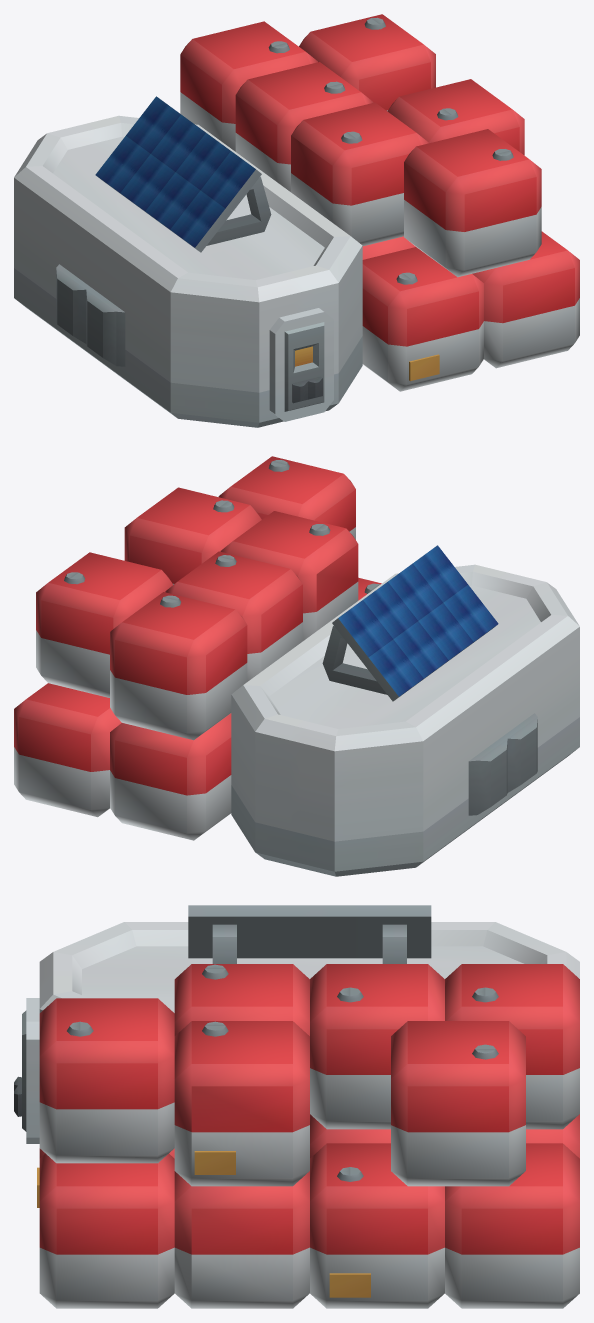
The model's file is kay-deposito-carga-c.gltf.
3 views of the same model, one above another, from view 1: azimuth 30°, elevation 25°; view 2: azimuth 150°, elevation 25°; view 3: azimuth 270°, elevation 25° (orthographic). The views are drawn at different scales.
Visible parts, largest first — view 1: cargodepot_C; view 2: cargodepot_C; view 3: cargodepot_C.
Boxes of the visible parts, bbox=[...] form: cargodepot_C: bbox=[14, 14, 579, 427]; cargodepot_C: bbox=[14, 456, 579, 876]; cargodepot_C: bbox=[14, 905, 579, 1308].
Size of the model in its own units: 5.39 by 2.65 by 5.45.
Materials: 1 (1 with a texture image).
